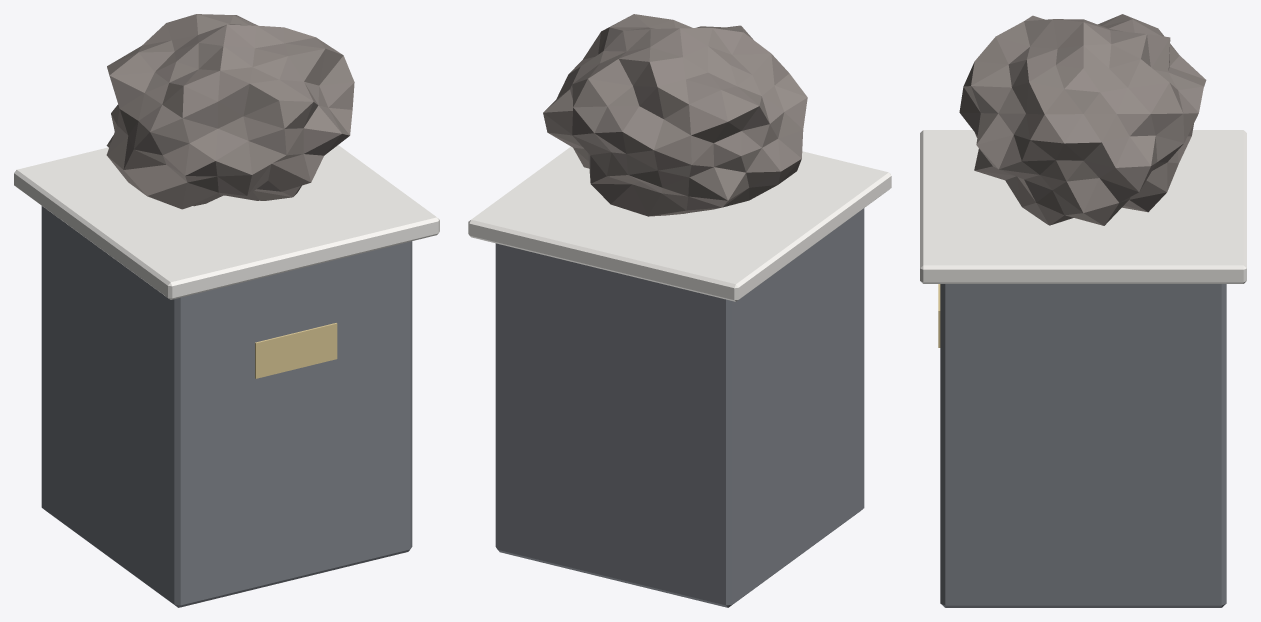
The model's file is meteorite.glb.
3 renders of one model, left to right at view 1: azimuth 30°, elevation 25°; view 2: azimuth 150°, elevation 25°; view 3: azimuth 270°, elevation 25°, orthographic. The views are drawn at different scales.
Parts seen in each view (by area): view 1: meteorite_marble_k, meteorite_rock, meteorite_marble_w, meteorite_brass; view 2: meteorite_marble_k, meteorite_rock, meteorite_marble_w; view 3: meteorite_marble_k, meteorite_rock, meteorite_marble_w.
Boxes of the visible parts, x1,y1,x2,y2 form: meteorite_marble_k: (41,206,412,607); meteorite_rock: (106,14,354,209); meteorite_marble_w: (14,145,439,299); meteorite_brass: (255,323,337,378); meteorite_marble_k: (495,208,864,607); meteorite_rock: (543,14,807,216); meteorite_marble_w: (468,146,891,301); meteorite_marble_k: (940,284,1226,607); meteorite_rock: (959,14,1206,225); meteorite_marble_w: (920,130,1246,283).
Bounding box in the file's own units: 0.8 × 1.42 × 0.8.
